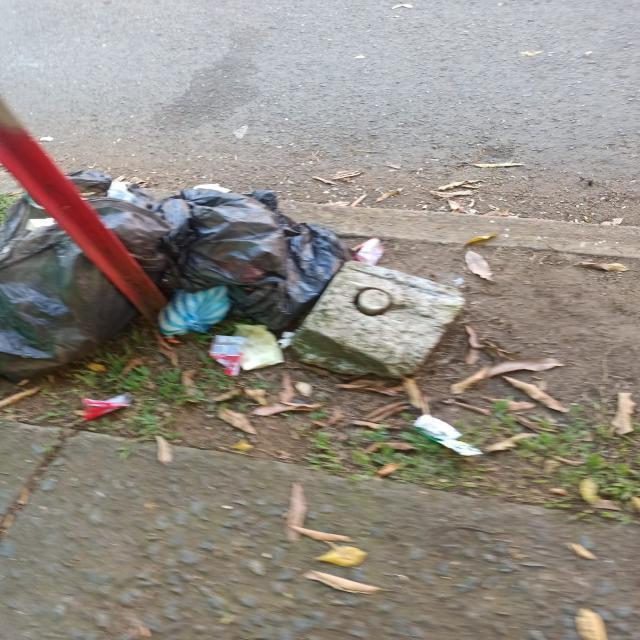Trashbag: (0, 219, 181, 377), (168, 178, 288, 334), (289, 218, 351, 310)
